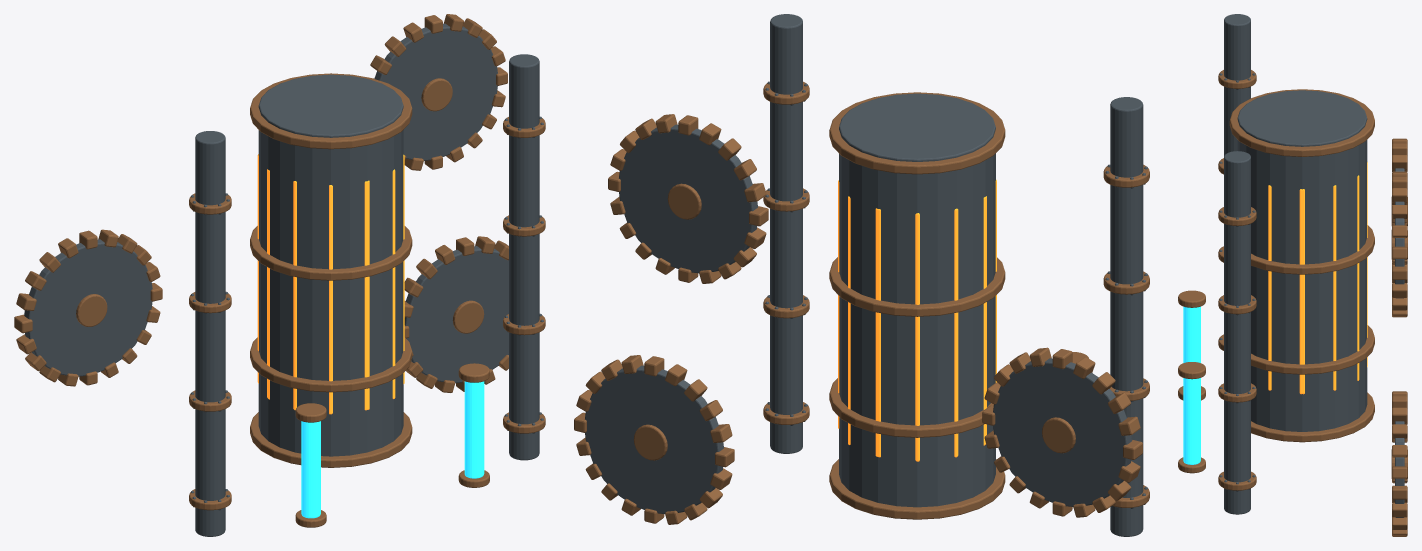
File: furnace_assembly.glb
The picture shows the model from 3 angles, left to right: view 1: azimuth 30°, elevation 25°; view 2: azimuth 150°, elevation 25°; view 3: azimuth 270°, elevation 25°; orthographic projection. The views are drawn at different scales.
Visible parts, largest first — view 1: Central furnace, Gear wheel, Steam chimney.001, Steam chimney, Gear wheel.002, Gear wheel.001, Furnace collar.003, Furnace collar.002, Furnace collar.001, Furnace collar, Arc cell.001, Arc cell (+7 smaller); view 2: Central furnace, Gear wheel.001, Gear wheel.002, Gear wheel, Steam chimney.001, Steam chimney, Furnace collar.003, Furnace collar.002, Furnace collar, Furnace collar.001, Orange furnace slit.009, Orange furnace slit.008 (+5 smaller); view 3: Central furnace, Steam chimney.001, Steam chimney, Furnace collar.003, Furnace collar, Arc cell.001, Furnace collar.001, Furnace collar.002, Orange furnace slit, Arc cell, Orange furnace slit.001, Orange furnace slit.011 (+11 smaller).
Boxes of the visible parts, x1,y1,x2,y2 form: Central furnace: (258, 74, 403, 456); Gear wheel: (24, 239, 152, 376); Steam chimney.001: (509, 54, 539, 460); Steam chimney: (195, 131, 225, 536); Gear wheel.002: (404, 246, 508, 383); Gear wheel.001: (374, 23, 497, 160); Furnace collar.003: (250, 73, 412, 149); Furnace collar.002: (250, 226, 412, 280); Furnace collar.001: (250, 337, 412, 392); Furnace collar: (250, 412, 412, 467); Arc cell.001: (464, 381, 484, 478); Arc cell: (301, 421, 320, 518); Central furnace: (839, 93, 995, 507); Gear wheel.001: (619, 124, 757, 273); Gear wheel.002: (585, 365, 723, 513); Gear wheel: (993, 358, 1132, 506); Steam chimney.001: (770, 14, 802, 453); Steam chimney: (1110, 97, 1143, 536); Furnace collar.003: (829, 92, 1005, 174); Furnace collar.002: (829, 257, 1005, 316); Furnace collar: (829, 459, 1005, 519); Furnace collar.001: (829, 378, 997, 437); Orange furnace slit.009: (875, 208, 880, 457); Orange furnace slit.008: (915, 213, 919, 461); Central furnace: (1237, 90, 1367, 431); Steam chimney.001: (1224, 151, 1250, 514); Steam chimney: (1224, 14, 1250, 156); Furnace collar.003: (1229, 89, 1374, 156); Furnace collar: (1251, 392, 1374, 442); Arc cell.001: (1183, 378, 1200, 464); Furnace collar.001: (1251, 325, 1374, 374); Furnace collar.002: (1251, 225, 1374, 274); Orange furnace slit: (1299, 189, 1304, 394); Arc cell: (1183, 306, 1200, 362); Orange furnace slit.001: (1268, 185, 1271, 390); Orange furnace slit.011: (1333, 185, 1336, 390).
Size of the model in its own units: 16.49 by 12.24 by 7.08.
